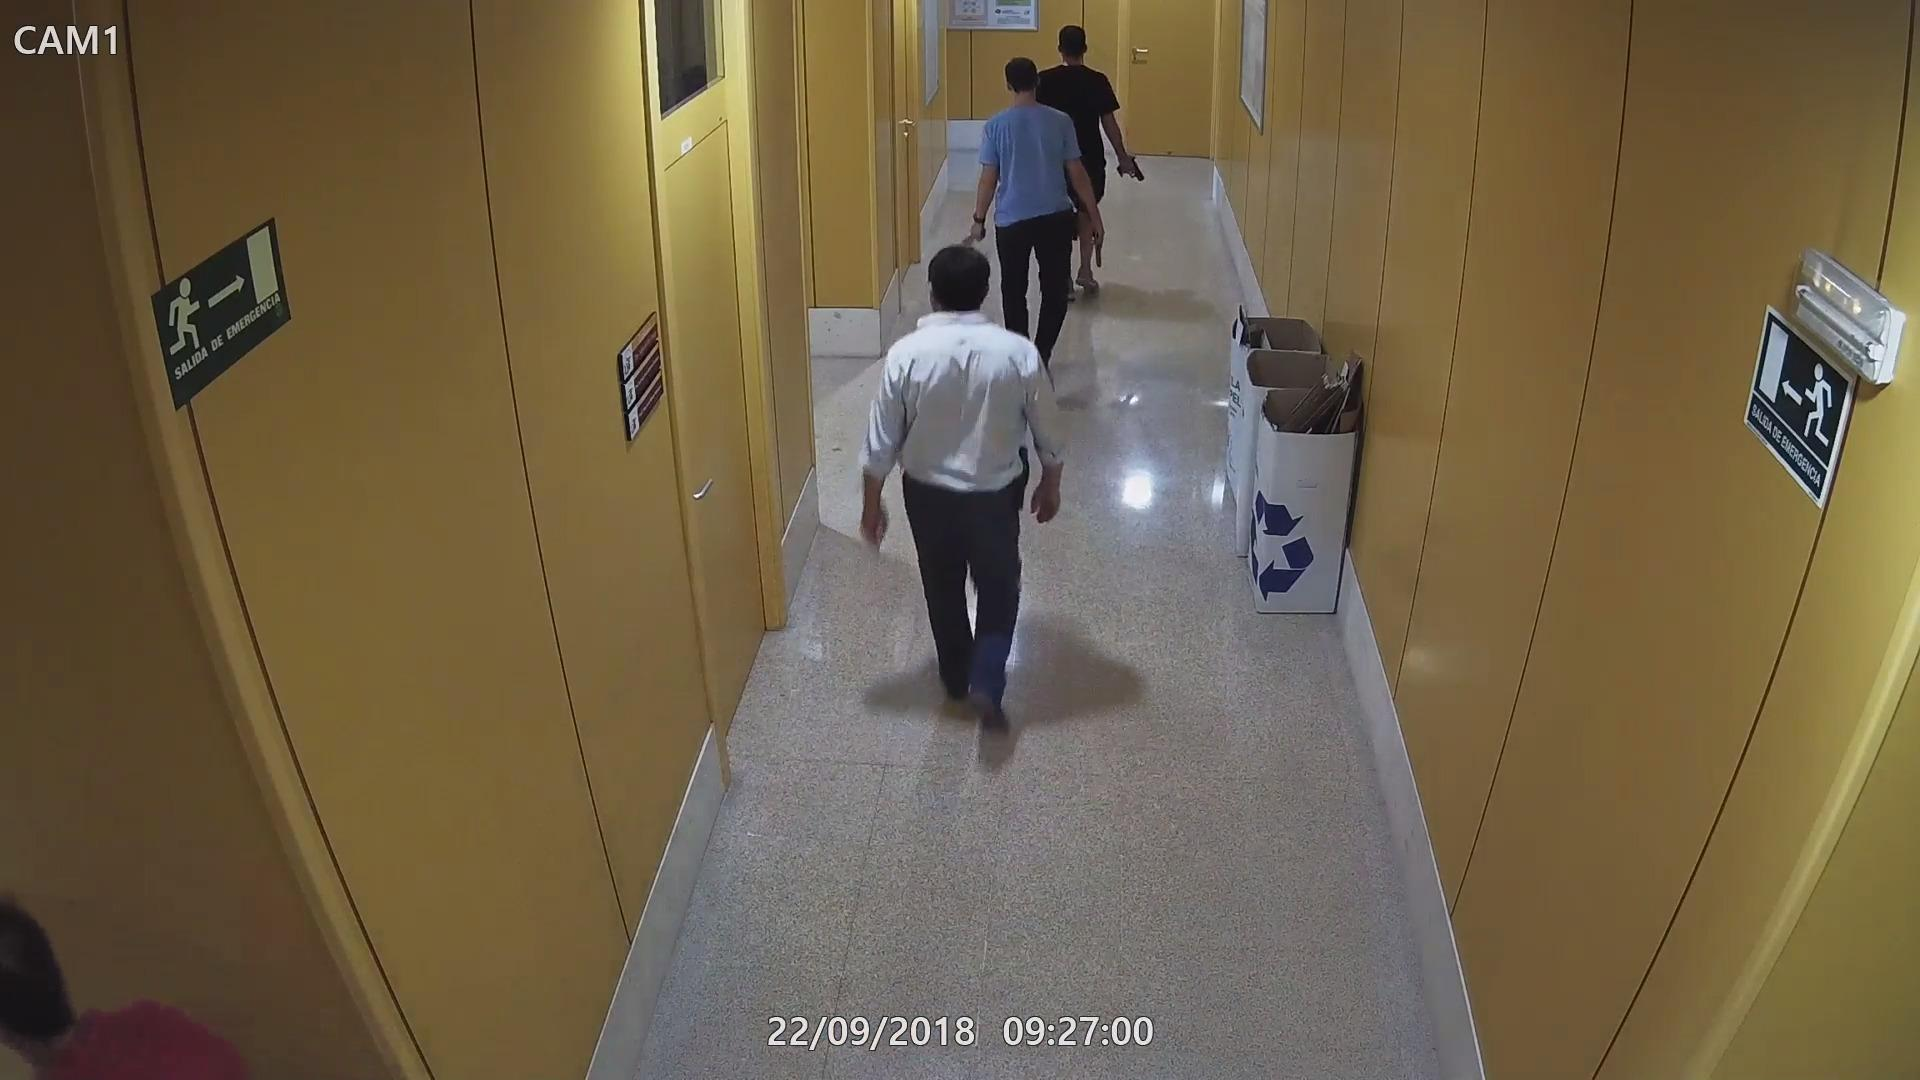Handgun: (1084, 223, 1110, 269), (1117, 154, 1145, 181)
